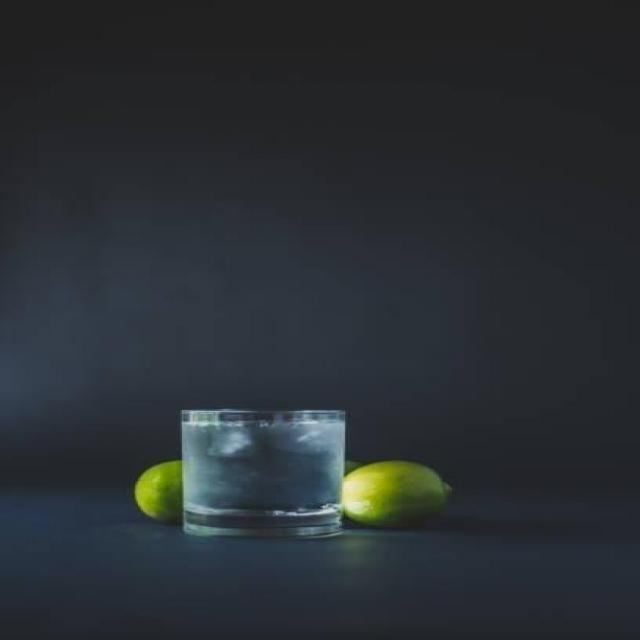glass-normal: (176, 406, 350, 538)
